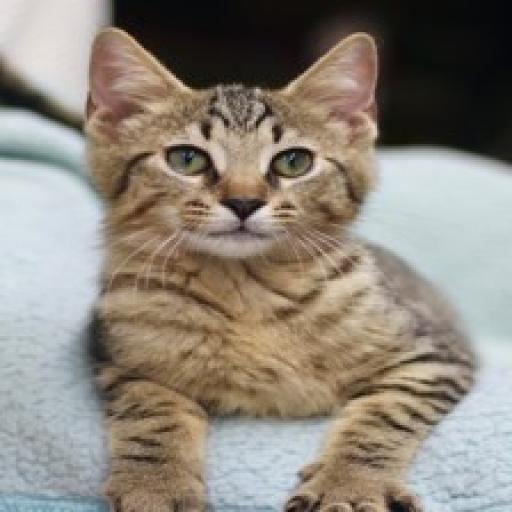cat: (41, 15, 457, 512)
